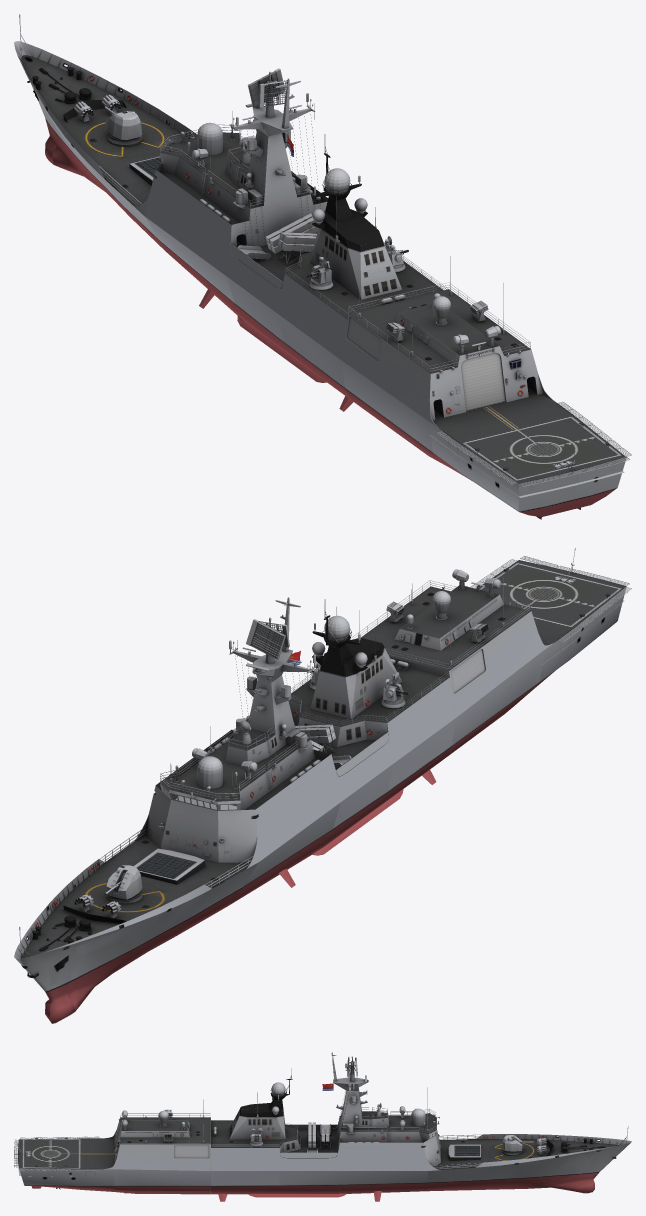
The model's file is frigate.glb.
3 renders of one model, top to bottom at view 1: azimuth 30°, elevation 25°; view 2: azimuth 150°, elevation 25°; view 3: azimuth 270°, elevation 25°, orthographic. The views are drawn at different scales.
Parts seen in each view (by area): view 1: atas, bawah; view 2: atas, bawah; view 3: atas, bawah.
Boxes of the visible parts, bbox=[...] form: atas: bbox=[14, 14, 631, 497]; bawah: bbox=[27, 80, 626, 519]; atas: bbox=[14, 548, 631, 968]; bawah: bbox=[15, 586, 626, 1023]; atas: bbox=[14, 1052, 631, 1176]; bawah: bbox=[19, 1143, 630, 1201].
Size of the model in its own units: 17.74 by 34 by 135.
Materials: 5 (4 with a texture image).
